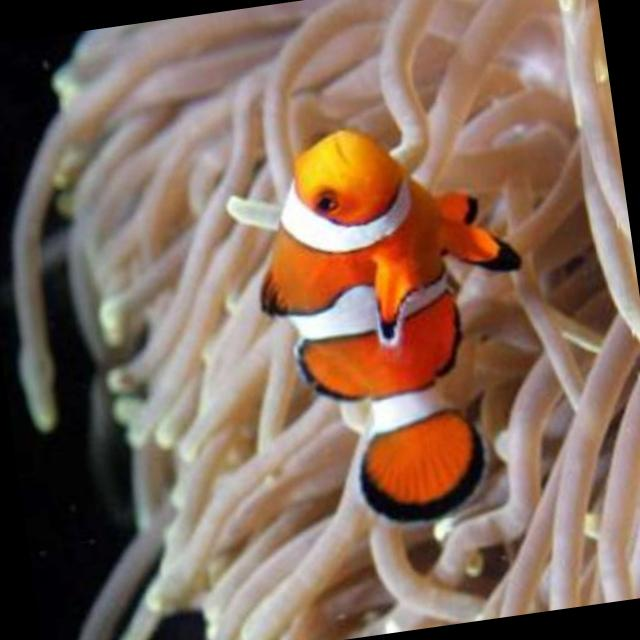ClownFish: (236, 108, 552, 544)
